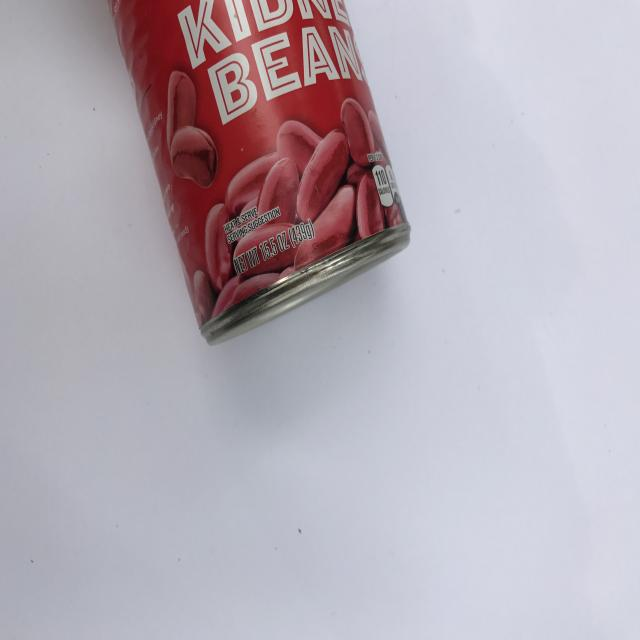metal: (103, 0, 412, 346)
